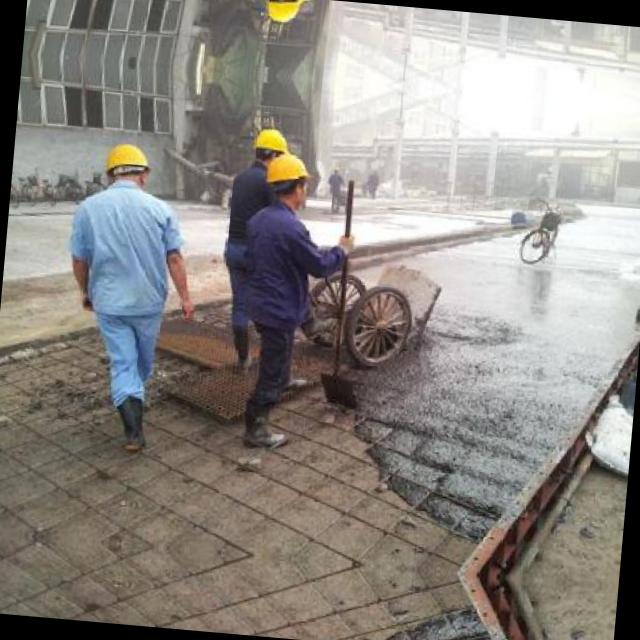helmet: (96, 136, 154, 192), (266, 152, 312, 208), (249, 126, 289, 168), (261, 0, 302, 25)
